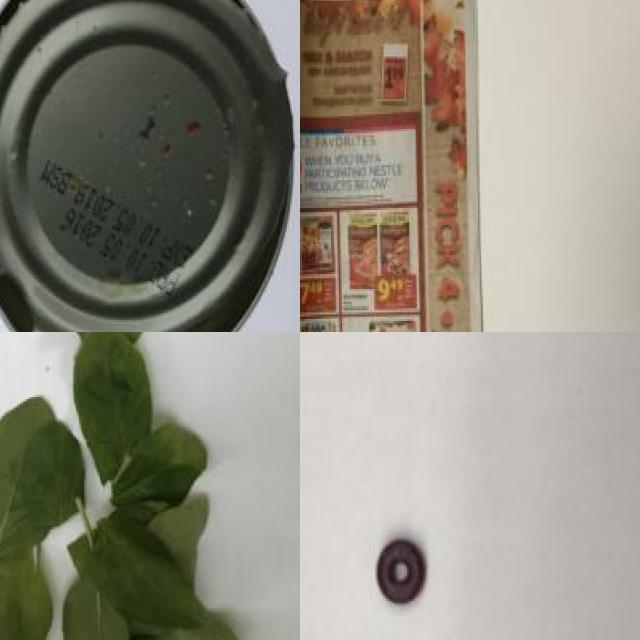compost: (0, 332, 300, 640), (360, 527, 442, 629)
paper: (300, 0, 504, 332)
plastic: (0, 0, 300, 332)
